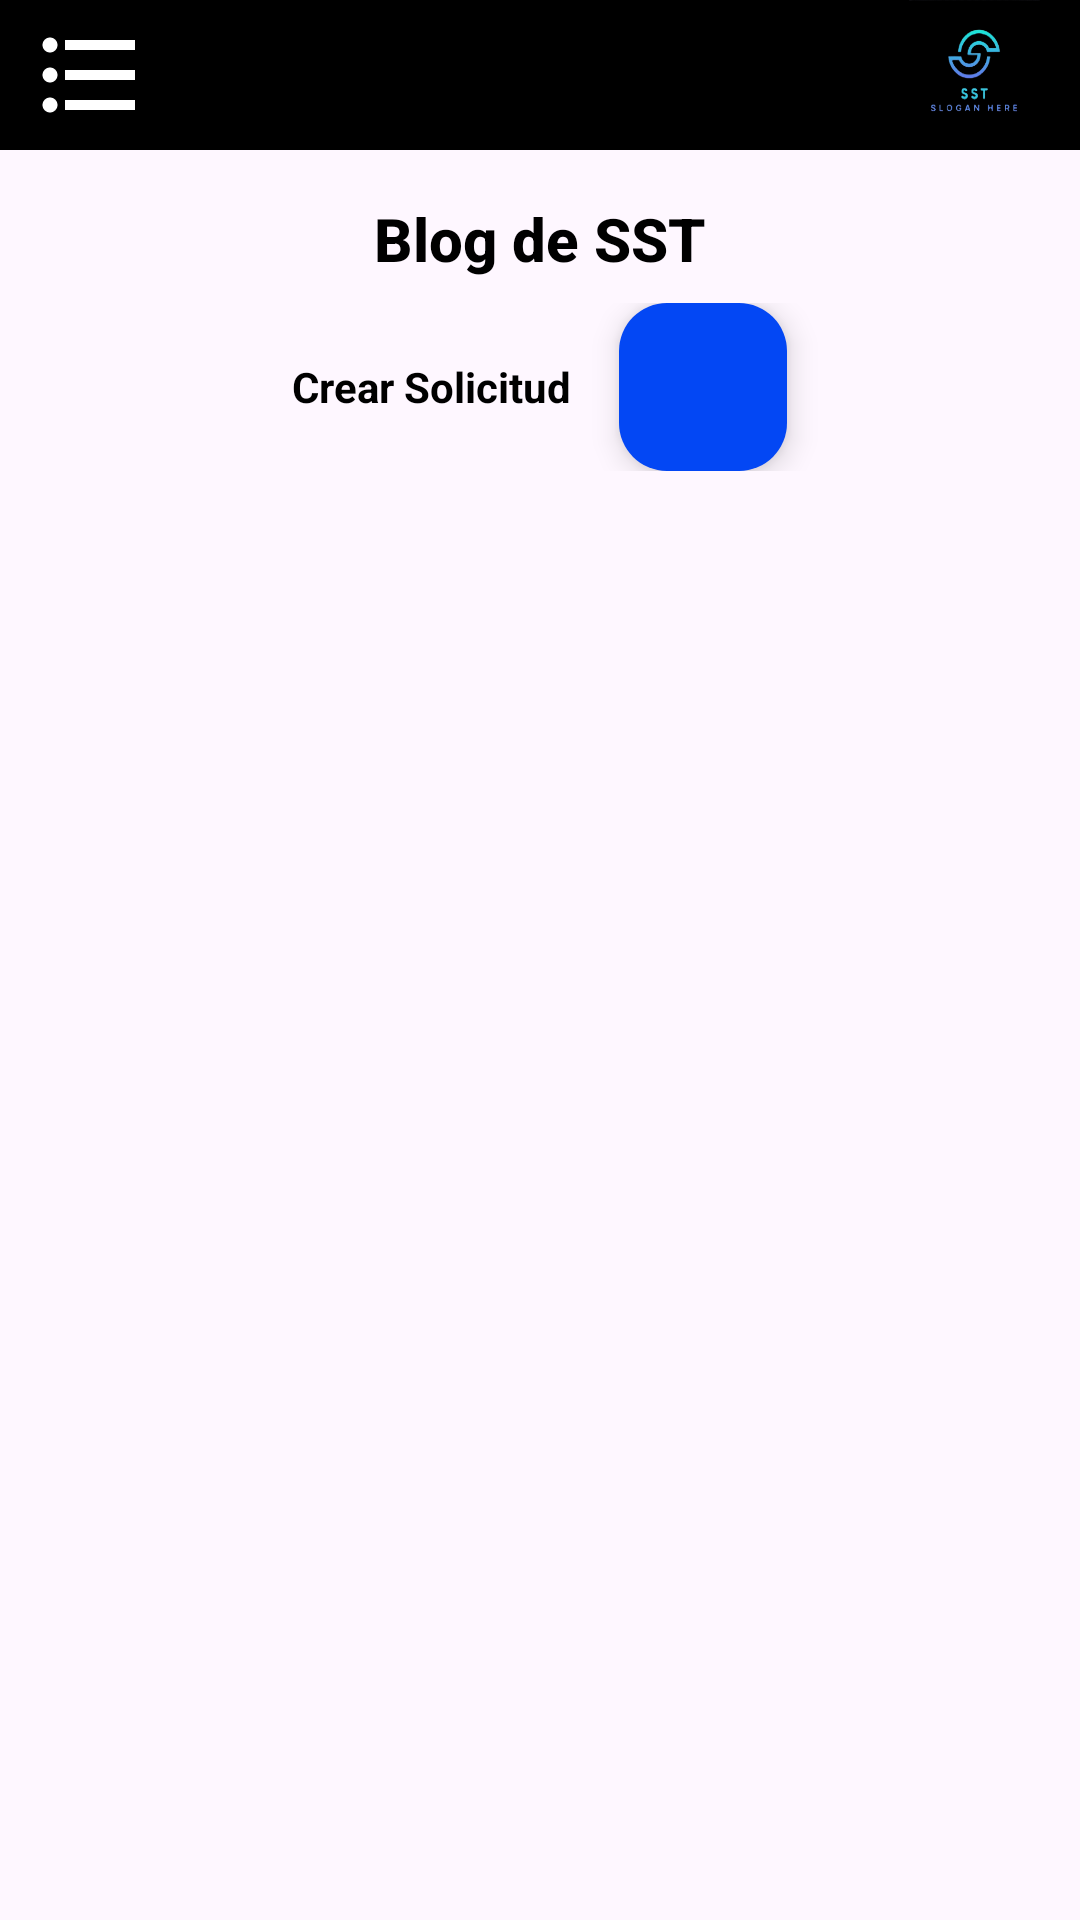

Screen size 1080 × 1920. Icon name, then its box in pixels as (x1, y1, x2, y2):
Menú: (42, 37, 135, 113)
